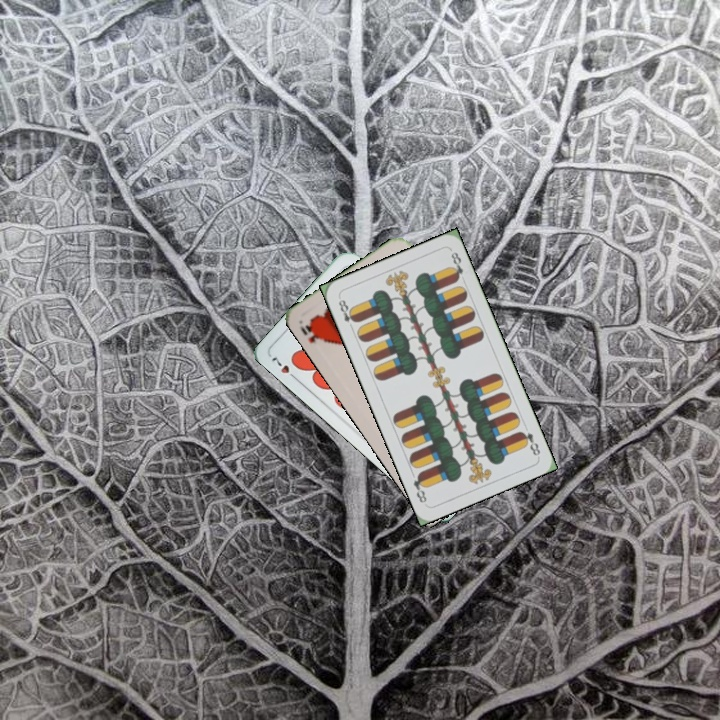E8: (334, 295, 359, 333), (516, 427, 543, 458)
H7: (267, 353, 300, 383)
HO: (296, 316, 324, 346)
